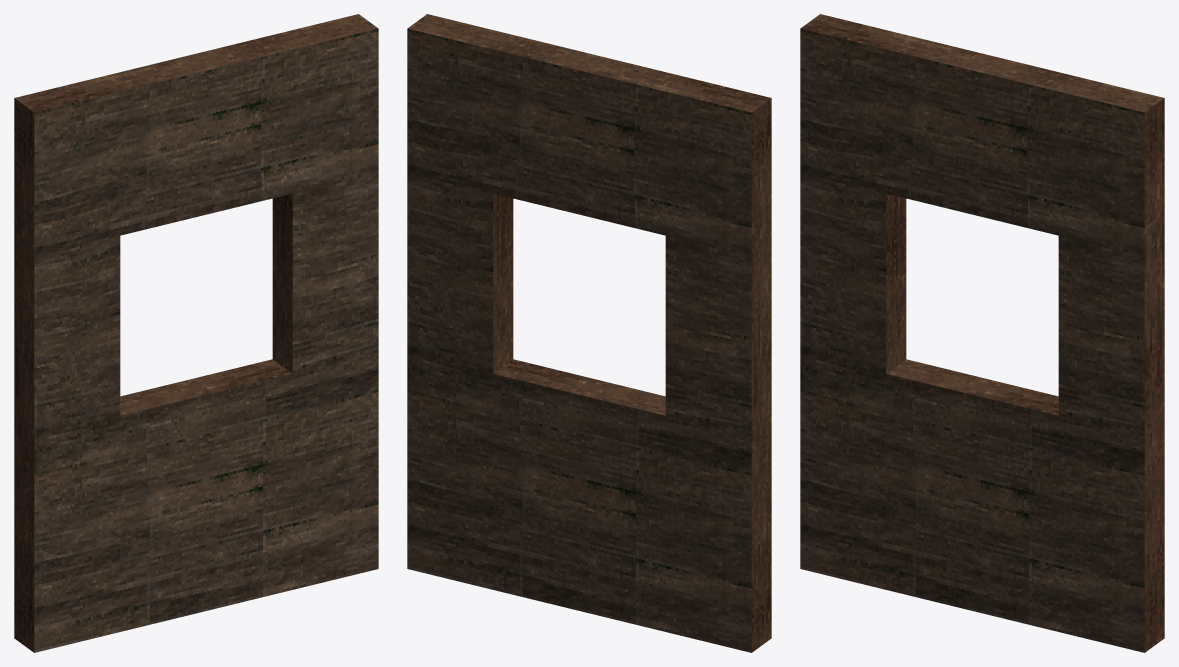
Rendered from window_small_single_frame.glb.
3 views of the same model, side by side, from view 1: azimuth 30°, elevation 25°; view 2: azimuth 150°, elevation 25°; view 3: azimuth 330°, elevation 25° (orthographic).
Visible parts, largest first — view 1: window_small_single_frame2; view 2: window_small_single_frame2; view 3: window_small_single_frame2.
Boxes of the visible parts, x1,y1,x2,y2 form: window_small_single_frame2: [14, 14, 378, 652]; window_small_single_frame2: [407, 14, 771, 652]; window_small_single_frame2: [800, 14, 1164, 652].
Bounding box in the file's own units: 2 × 3 × 0.2.
Materials: 1 (1 with a texture image).
